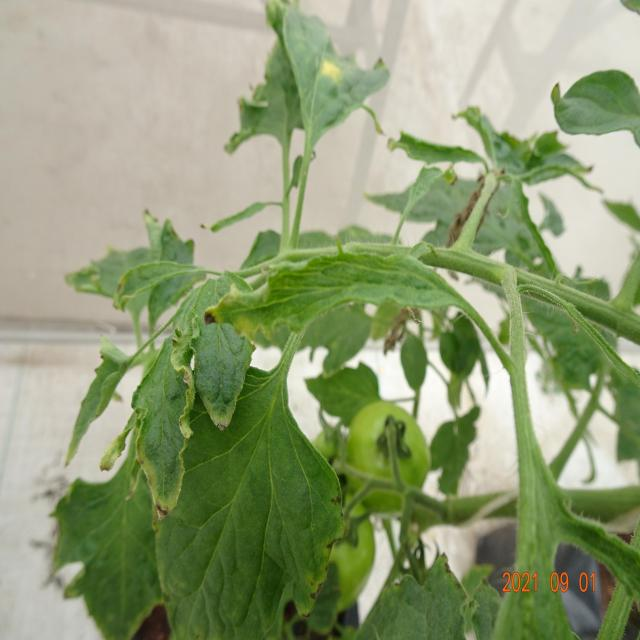T_L_R: (159, 365, 343, 640), (132, 339, 195, 519), (195, 324, 254, 429)
